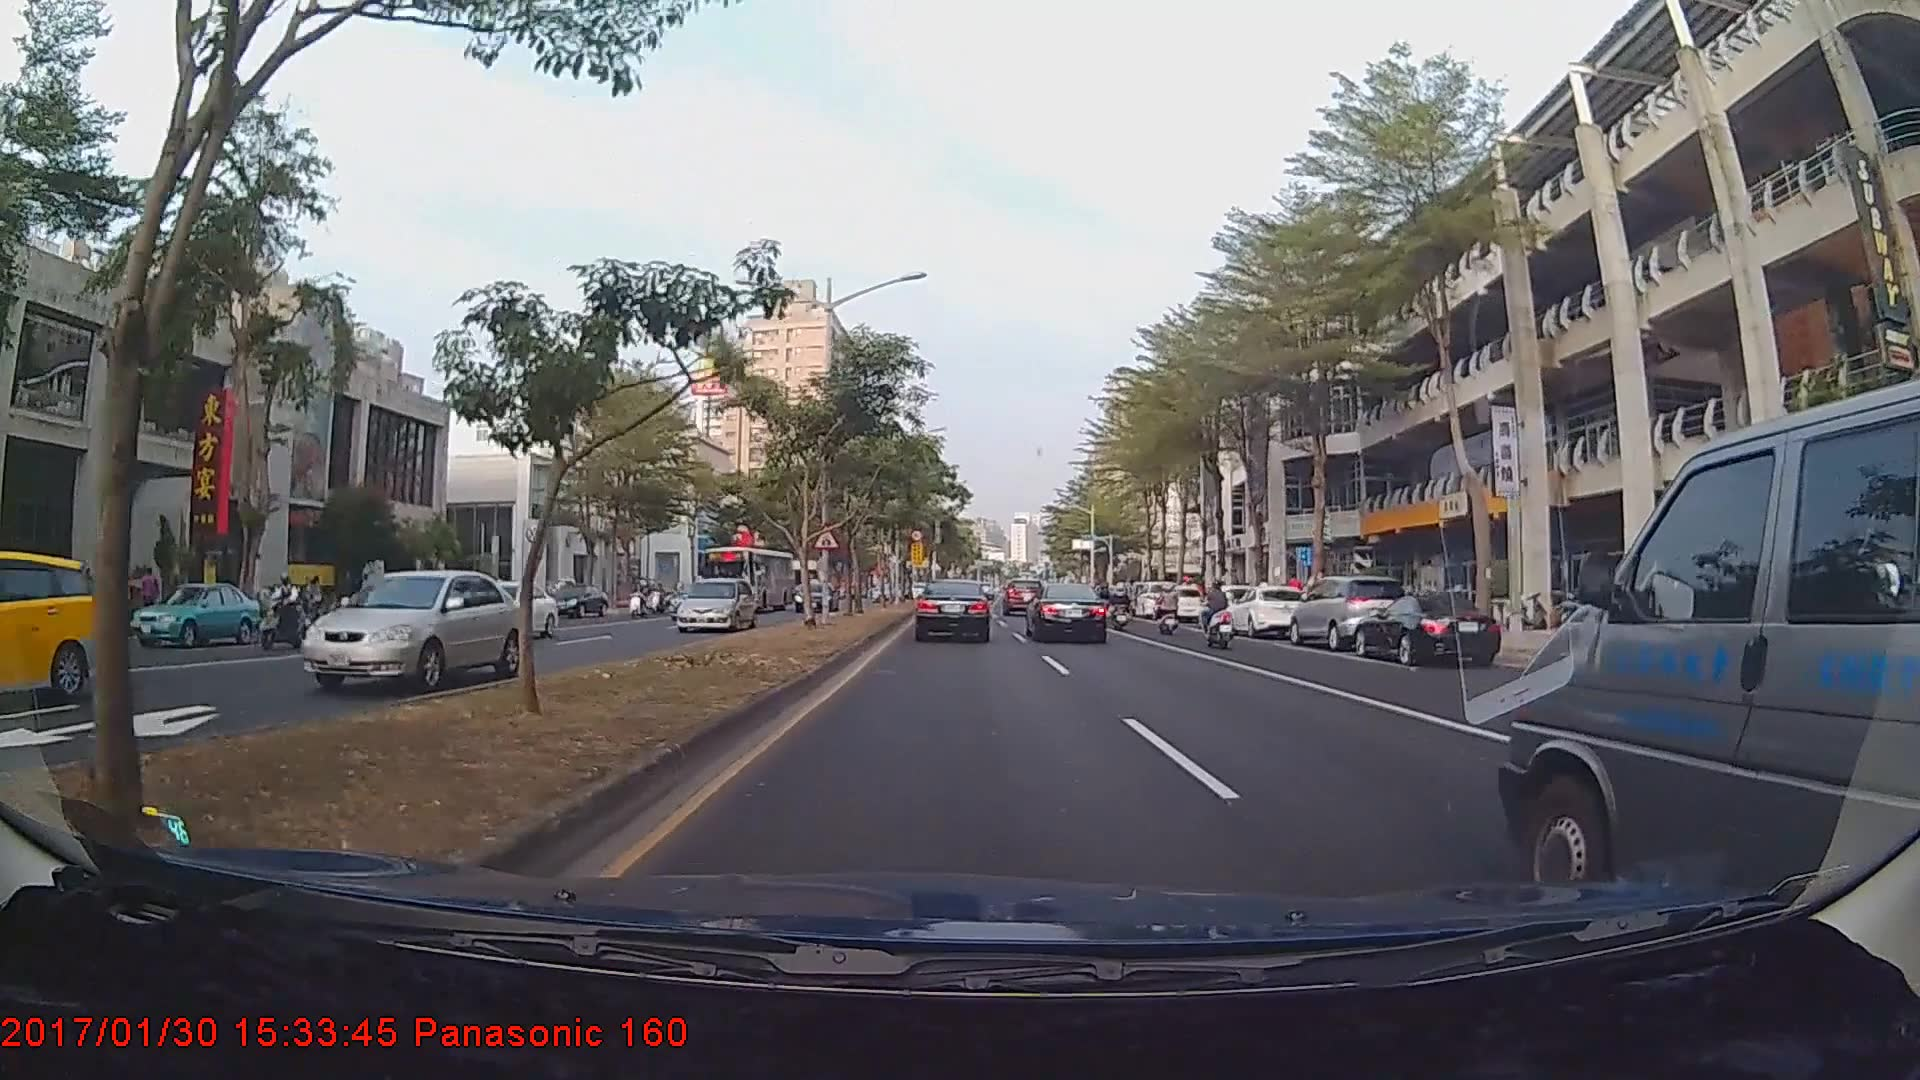rider: (255, 574, 312, 654), (1193, 582, 1243, 656), (1149, 582, 1187, 644), (1109, 584, 1134, 636)
vehicle: (1516, 405, 1916, 885), (297, 567, 525, 692), (0, 549, 100, 700), (1350, 594, 1503, 668), (1289, 572, 1411, 651), (127, 583, 261, 650), (449, 577, 559, 639), (702, 547, 794, 617), (912, 579, 993, 643), (673, 578, 759, 635), (1027, 581, 1108, 643), (1225, 585, 1308, 639), (1193, 585, 1259, 632), (1154, 587, 1203, 623), (1004, 575, 1047, 613), (790, 581, 836, 608)
